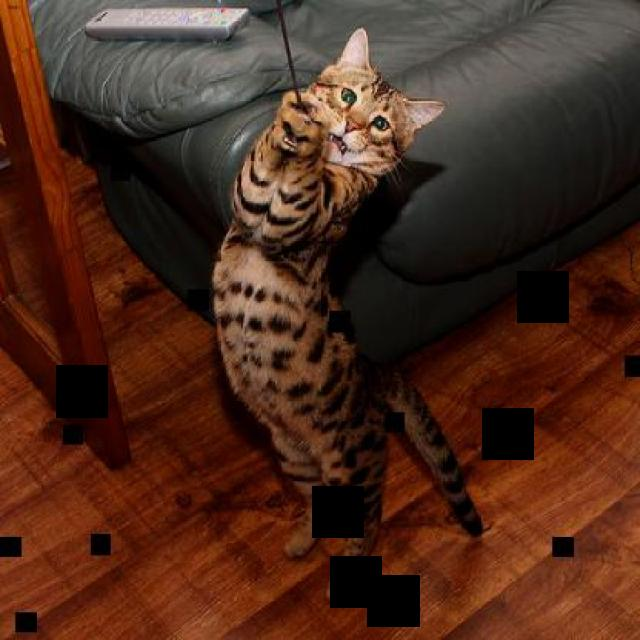unauthorized: (209, 24, 486, 604)
